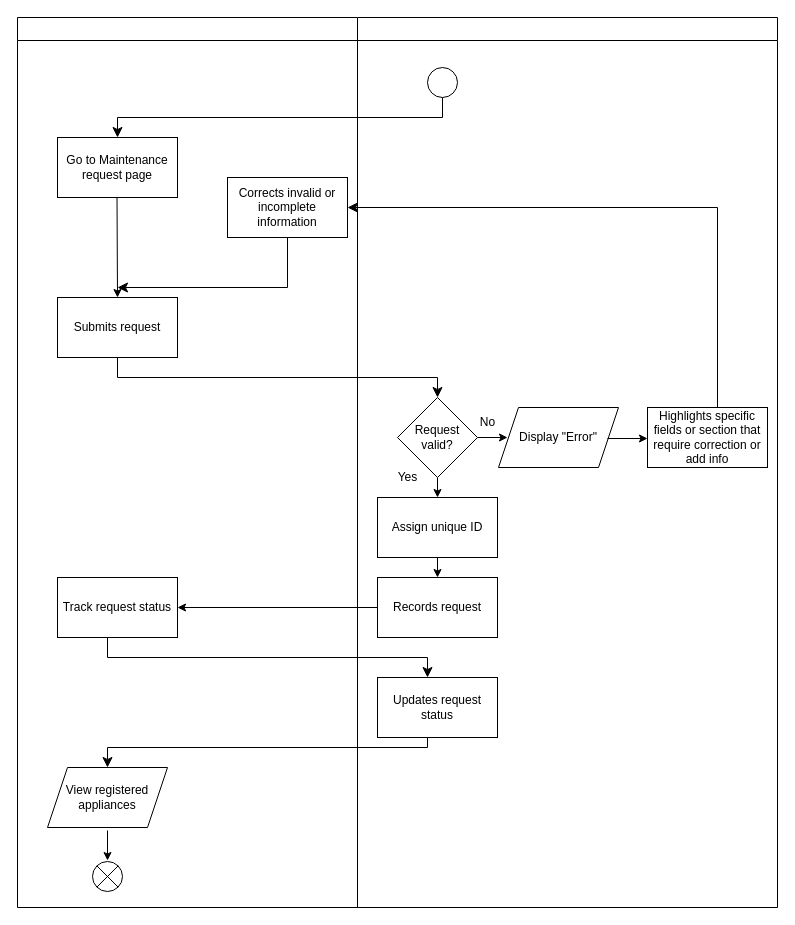
The diagram is 795 pixels wide and 925 high, and some of its shapes have lost their labels. Each missing label, with the centre of its shape:
"Student" belongs at [187,462].
"System" belongs at [567,462].
